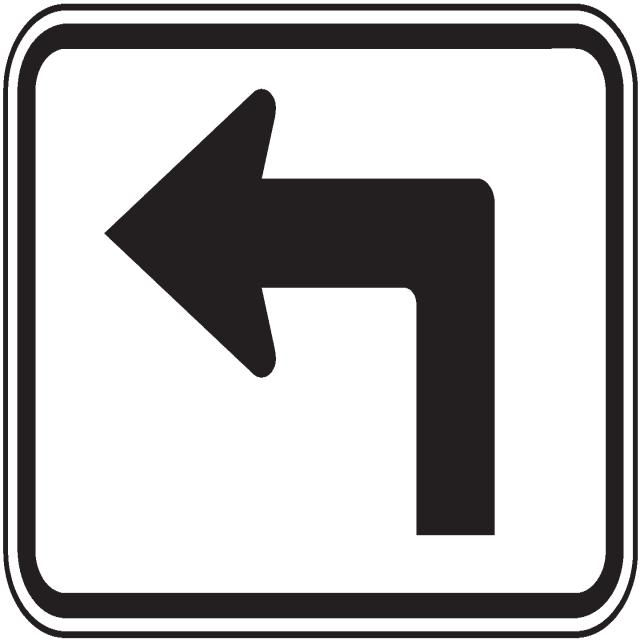left: (91, 86, 513, 558)
